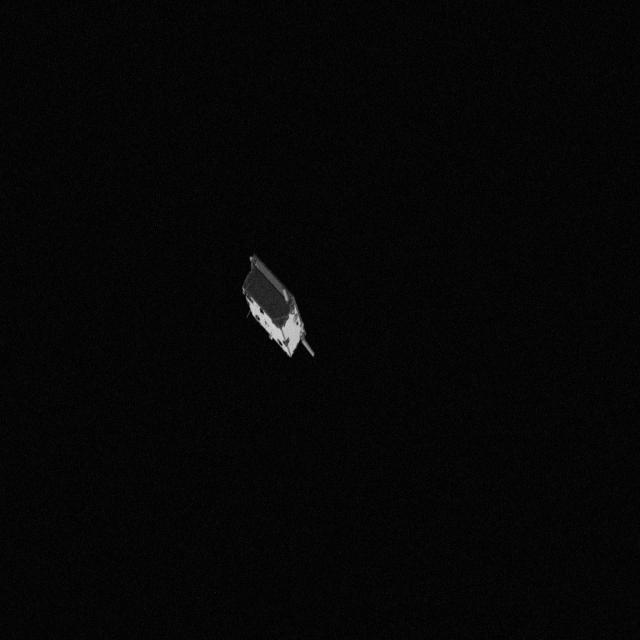medium_debris: (230, 252, 324, 372)
